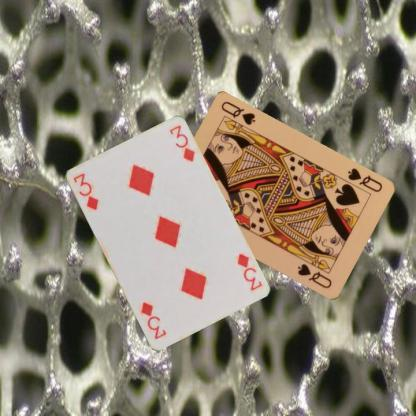3d: (70, 168, 100, 212), (234, 251, 263, 292)
Qs: (344, 165, 383, 194)
